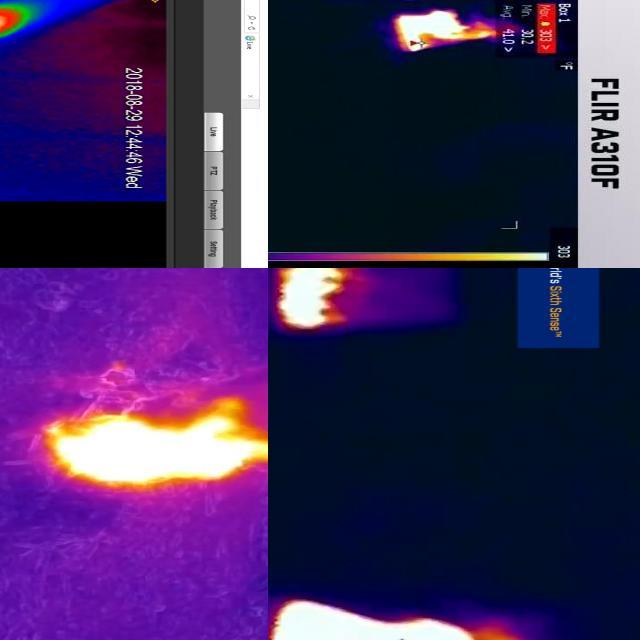fire: (46, 402, 269, 490), (269, 598, 521, 640), (274, 269, 360, 328), (395, 10, 497, 54), (1, 1, 40, 44)
